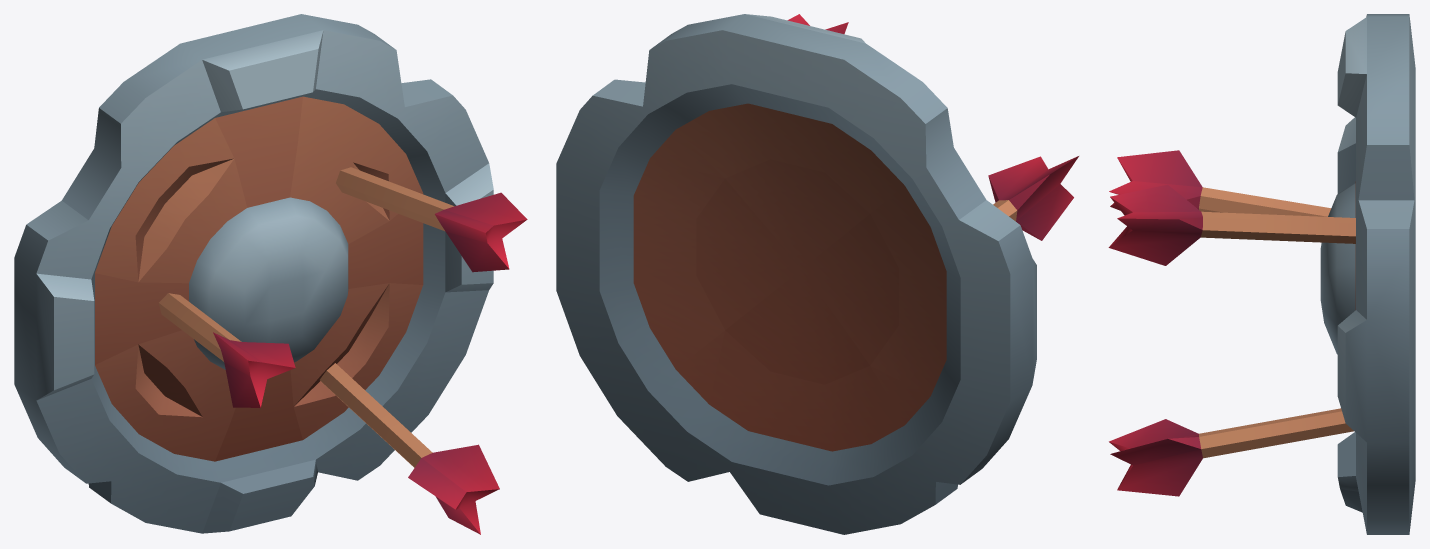
File: Skeleton_Shield_Small_B.glb
The picture shows the model from 3 angles, left to right: view 1: azimuth 30°, elevation 25°; view 2: azimuth 150°, elevation 25°; view 3: azimuth 270°, elevation 25°; orthographic projection. The views are drawn at different scales.
Visible parts, largest first — view 1: Skeleton_Shield_Small_B; view 2: Skeleton_Shield_Small_B; view 3: Skeleton_Shield_Small_B.
Boxes of the visible parts, left/top/right/bottom form: Skeleton_Shield_Small_B: left=14, top=14, right=527, bottom=534; Skeleton_Shield_Small_B: left=556, top=14, right=1078, bottom=534; Skeleton_Shield_Small_B: left=1108, top=14, right=1415, bottom=534.
Size of the model in its own units: 0.8322 by 0.8322 by 0.5058.
Materials: 1 (1 with a texture image).
